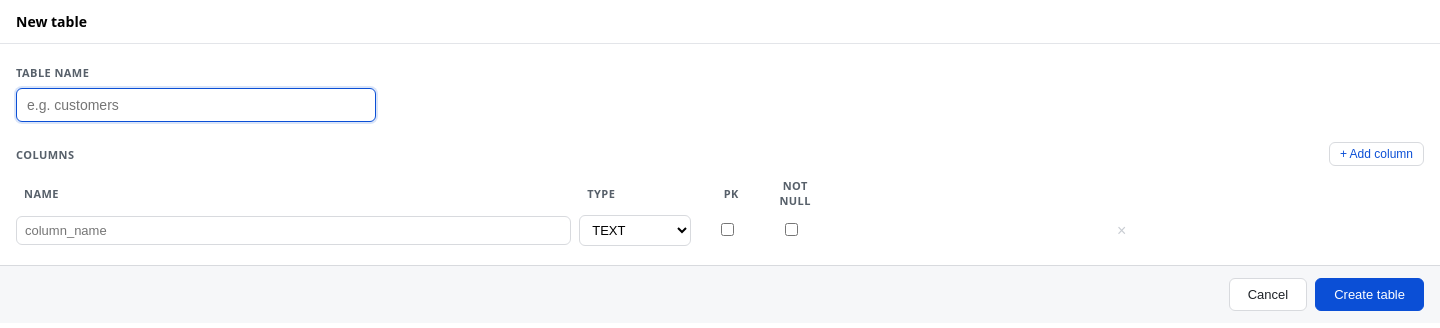
Test: TableForm (create mode) › disables the not-null checkbox when a column is a primary key
This screenshot has width=1440, height=328.
Expected: the checkbox named "Not null" is enabled, 785,222 -> 798,236
Click the checkbox named "Primary key": (727, 229) 721,222 -> 734,236
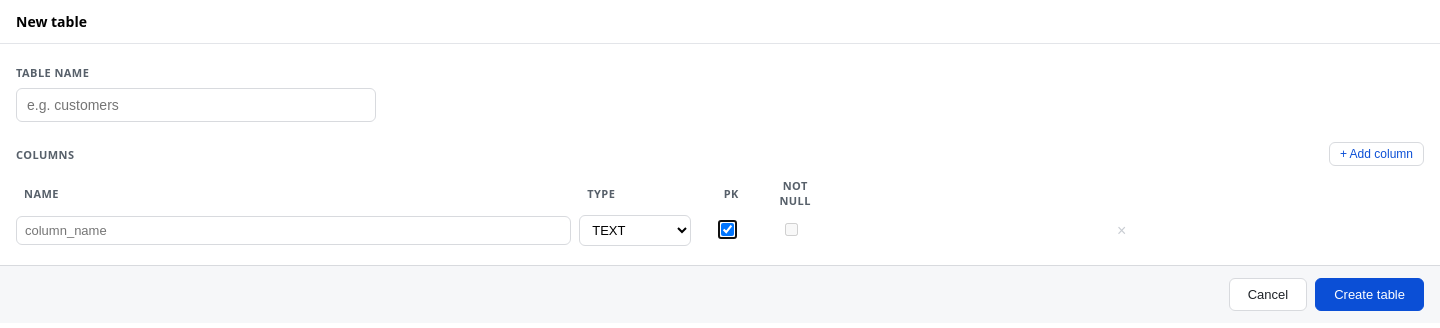
Expected: the checkbox named "Not null" is disabled, 785,222 -> 798,236
